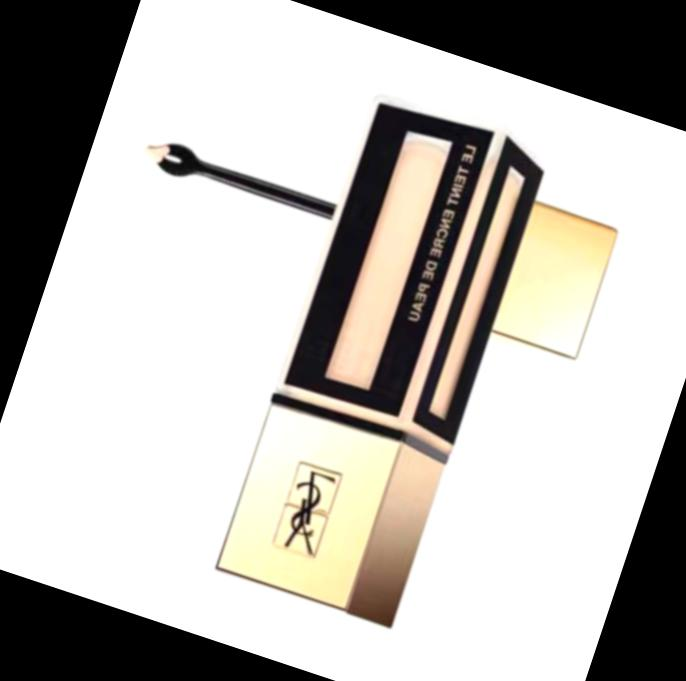cosmetic: (216, 88, 556, 629)
